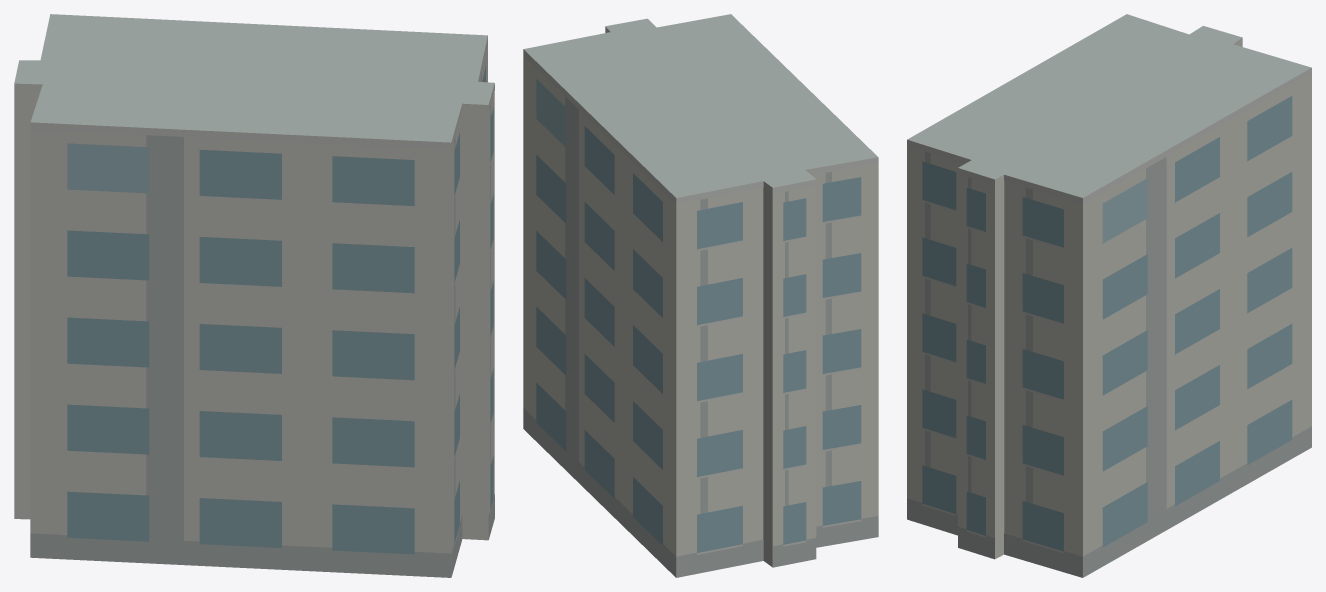
Rendered from survey-upis-32636729.glb.
3 views of the same model, side by side, from view 1: azimuth 30°, elevation 25°; view 2: azimuth 150°, elevation 25°; view 3: azimuth 270°, elevation 25° (orthographic). The views are drawn at different scales.
Visible parts, largest first — view 1: survey-upis-32636729.tmp; view 2: survey-upis-32636729.tmp; view 3: survey-upis-32636729.tmp.
Boxes of the visible parts, x1=… form: survey-upis-32636729.tmp: x1=14, y1=14, x2=494, y2=577; survey-upis-32636729.tmp: x1=523, y1=14, x2=878, y2=577; survey-upis-32636729.tmp: x1=907, y1=14, x2=1311, y2=577.
Size of the model in its own units: 15.07 by 14.5 by 14.01.
